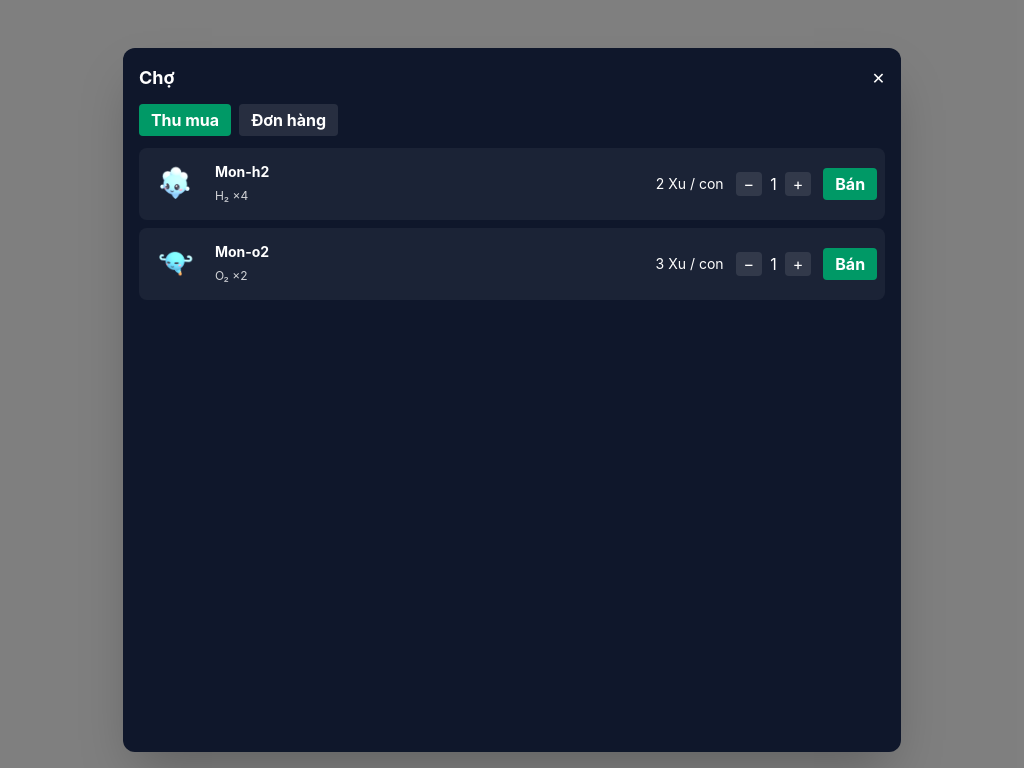
a refused sale (409 INSUFFICIENT_MONSTERS) shows the market message, never the breeding copy
Click the button with test id "sell-h2" at (850,184), box [823,168,877,200]
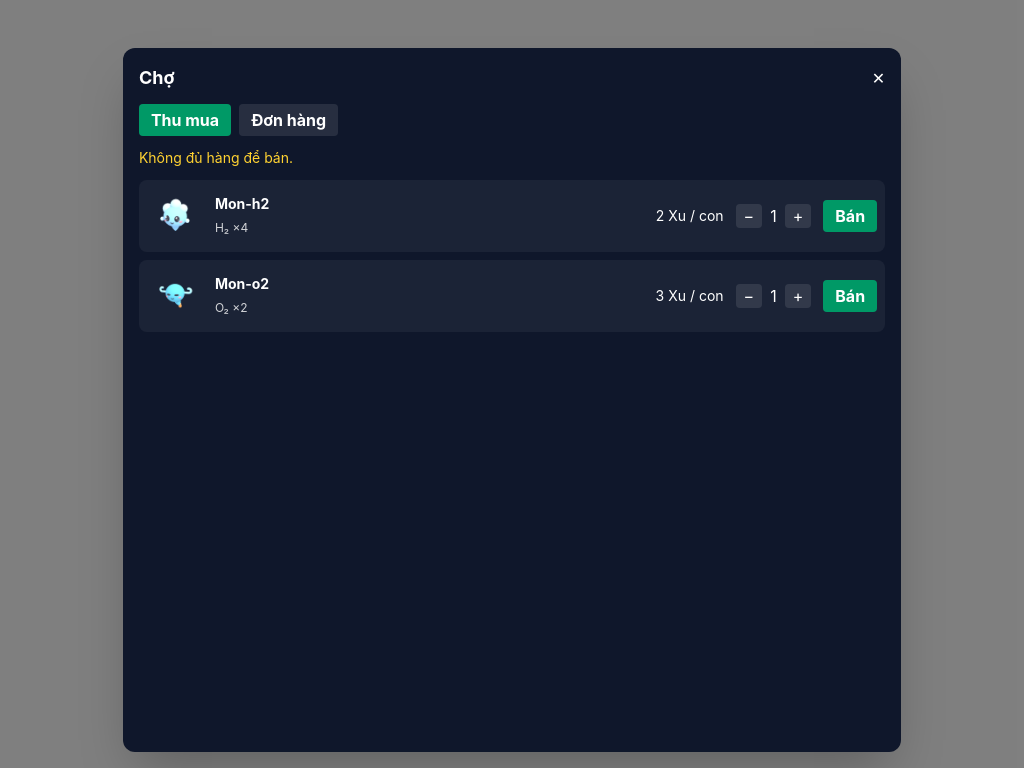
Check: the button with test id "sell-h2" is enabled, box [823,200,877,232]
Check: the message reads "Không đủ hàng để bán.", box [139,149,293,166]
